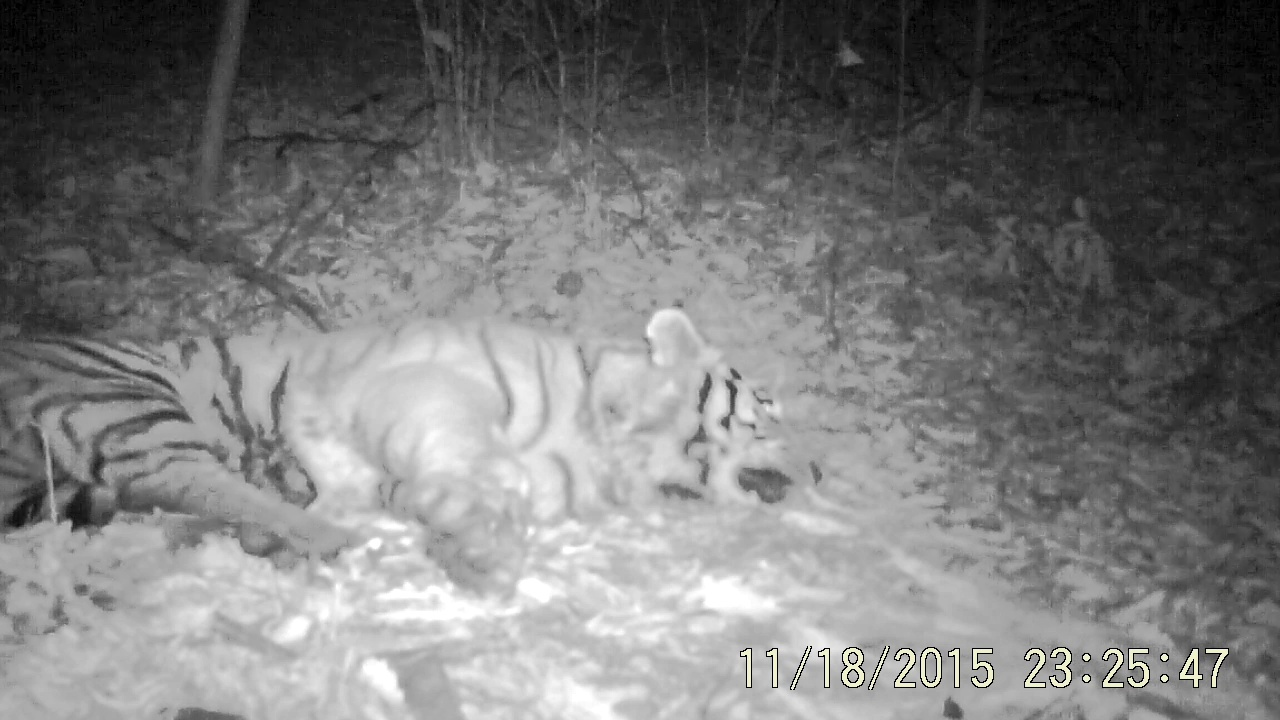Tiger: (1, 110, 919, 619)
